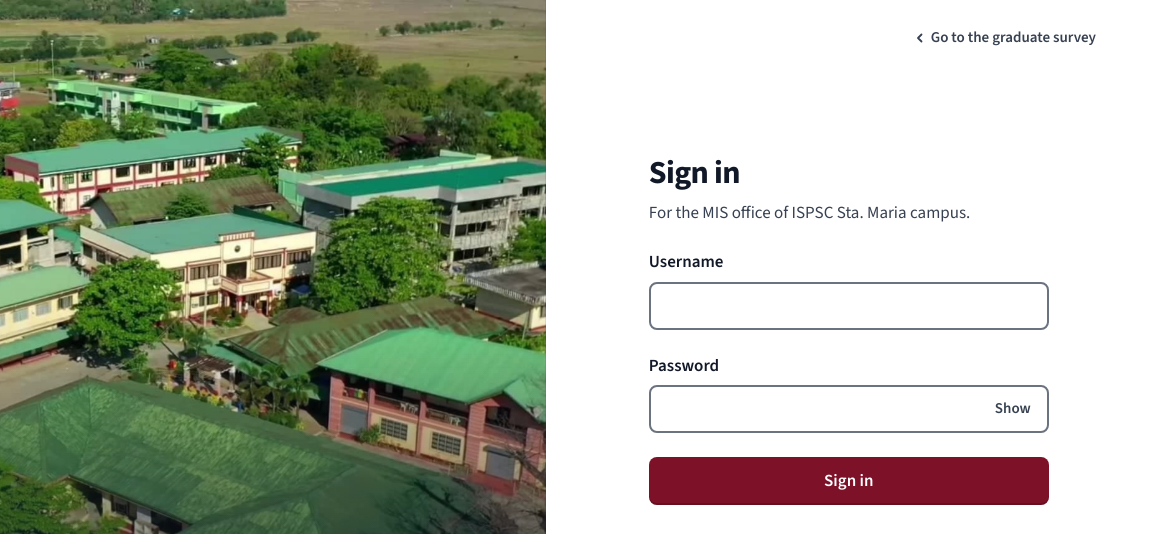
Test: Admin login page › has labelled fields and asks for both values before calling the API
Click the button "Sign in" at (849, 481), box left=649, top=457, right=1049, bottom=505
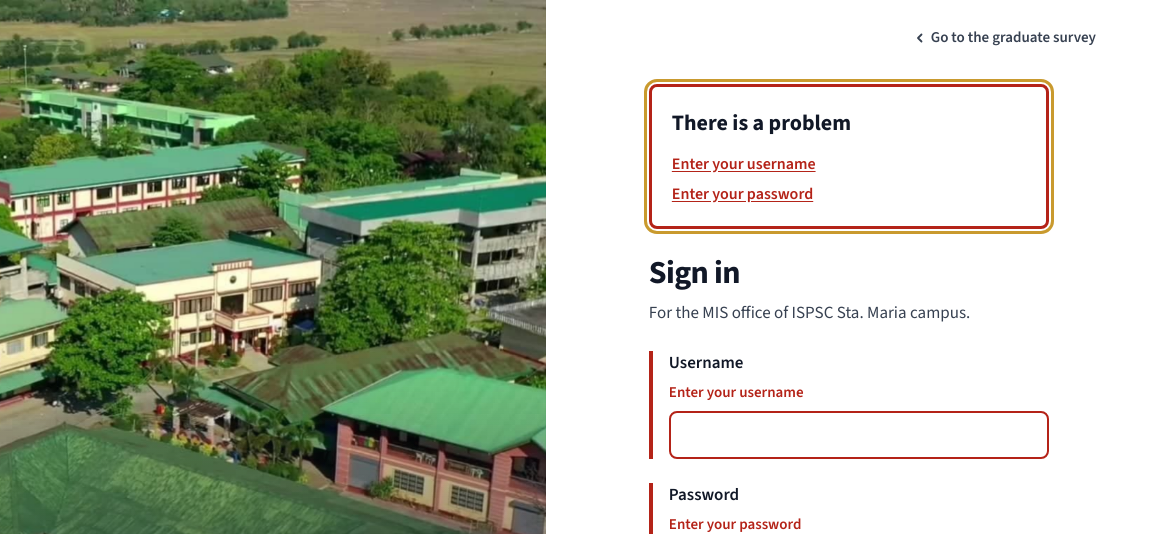
expect the field labelled "Username" is shown: met, box left=669, top=410, right=1049, bottom=458
expect the message shows "Enter your username": met, box left=672, top=153, right=816, bottom=175
expect the message shows "Enter your password": met, box left=672, top=183, right=813, bottom=205
